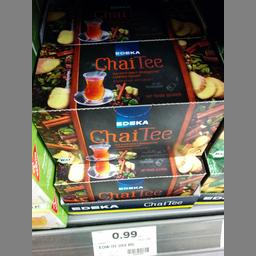tea: (31, 36, 222, 162), (52, 154, 204, 199)
